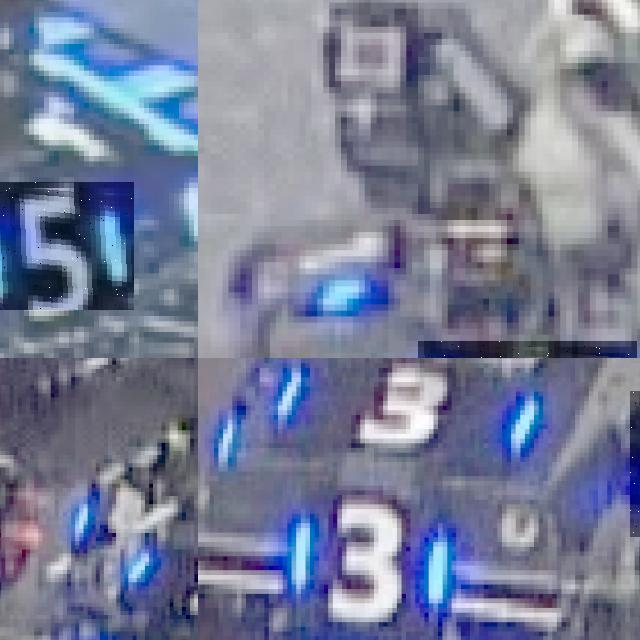B1: (124, 549, 198, 623)
B3: (269, 358, 534, 452), (292, 495, 447, 622)
B5: (0, 182, 134, 310)
